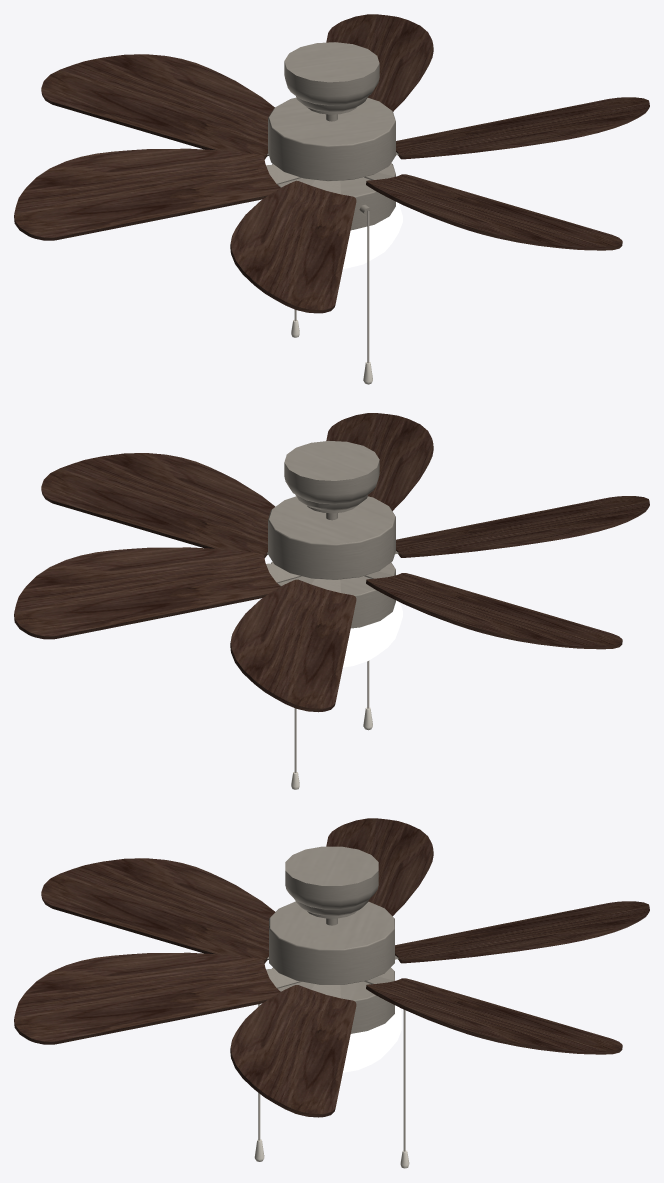
File: ceiling_fan.glb
3 renders of one model, top to bottom at view 1: azimuth 30°, elevation 25°; view 2: azimuth 150°, elevation 25°; view 3: azimuth 270°, elevation 25°, orthographic.
Parts seen in each view (by area): view 1: polySurface617; view 2: polySurface617; view 3: polySurface617.
Boxes of the visible parts, <box> form: polySurface617: <box>14,14,649,384</box>; polySurface617: <box>14,413,649,789</box>; polySurface617: <box>14,818,649,1168</box>.
Size of the model in its own units: 35.4 by 16.95 by 32.49.
Materials: 1 (1 with a texture image).
